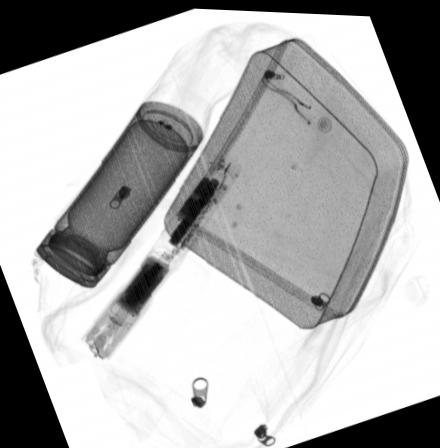Baton: (78, 151, 243, 359)
